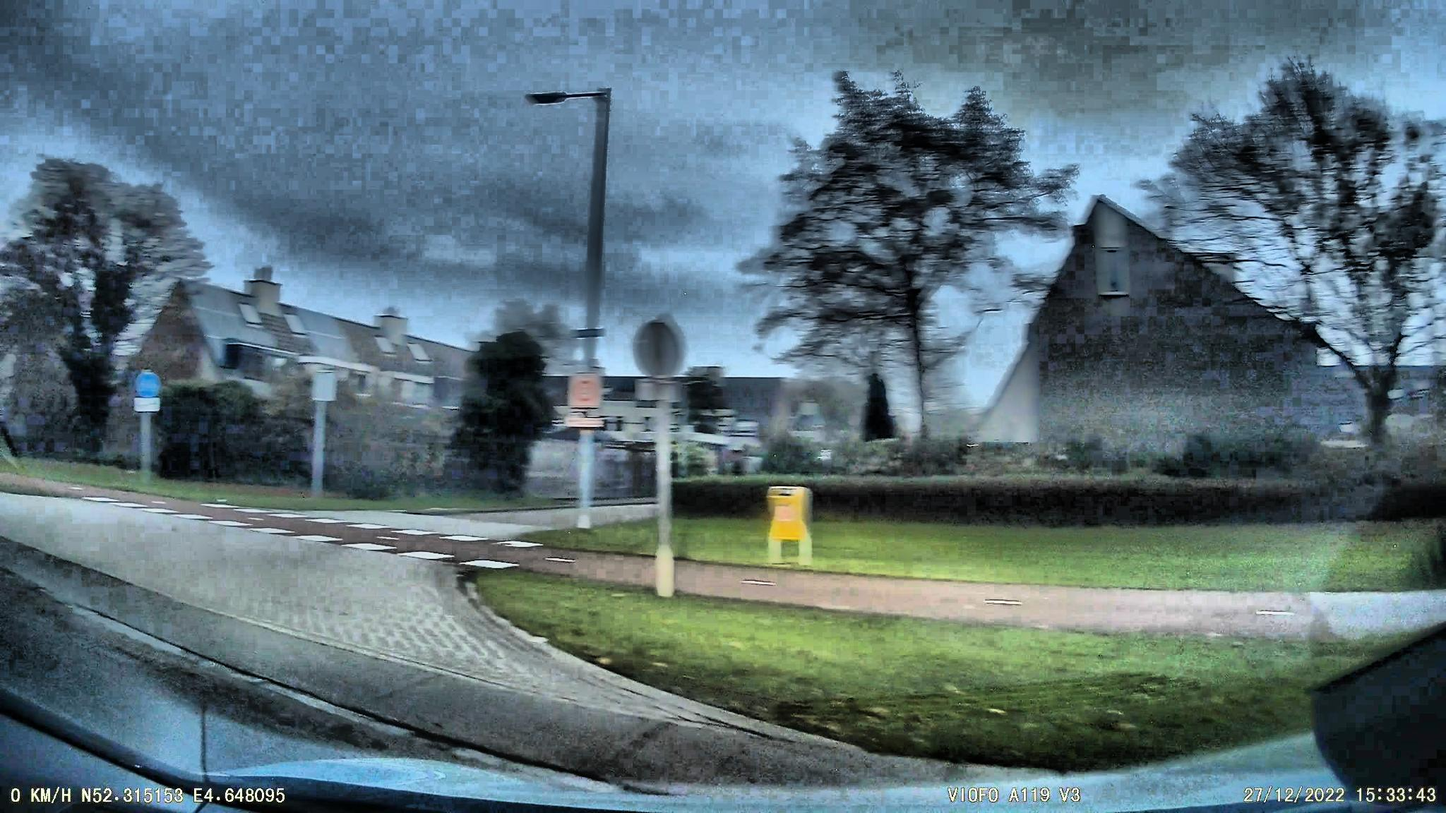Roads: (0, 492, 1344, 813)
